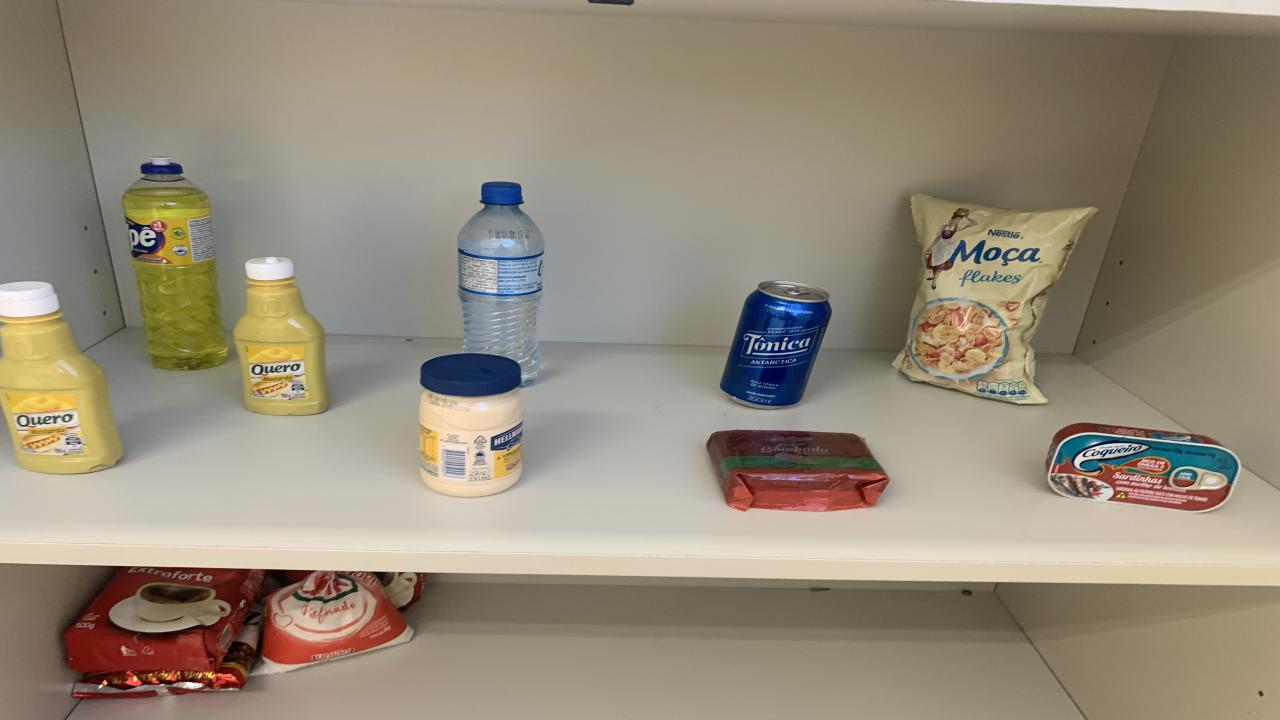Detergent-Cleanup_Items: (122, 158, 228, 369)
Flakes-Snacks: (892, 195, 1098, 405)
Guava-Snacks: (708, 431, 890, 512)
Mayonnaise-Pantry_Items: (420, 352, 522, 497)
Mustard-Pantry_Items: (0, 281, 122, 474), (232, 257, 330, 414)
Tonic-Drinks: (720, 281, 832, 409)
Tuna_Can-Pantry_Items: (1048, 424, 1240, 512)
Water_Bottle-Drinks: (458, 182, 545, 386)
